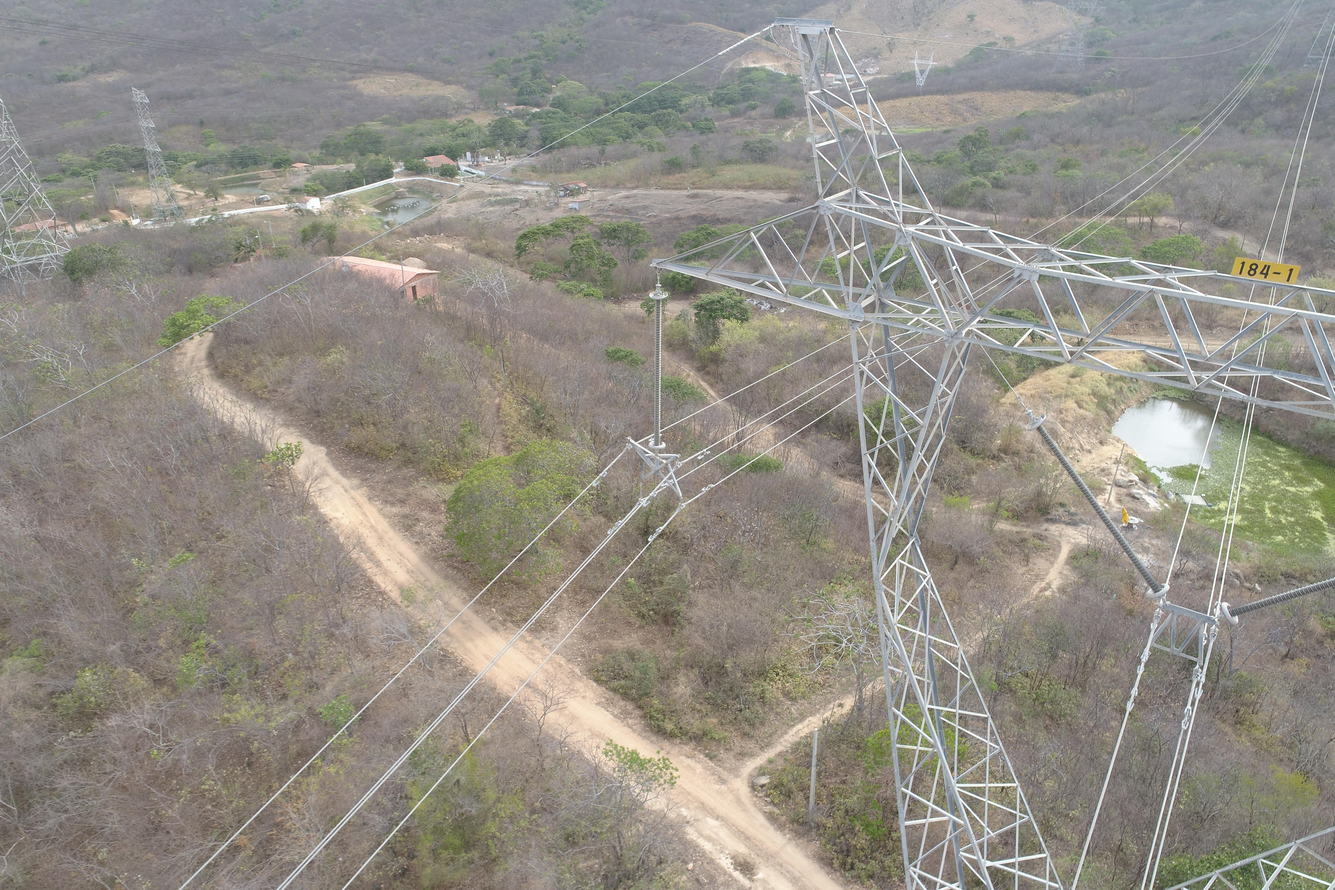power_tower: (632, 18, 1332, 889), (0, 85, 91, 297), (128, 80, 191, 229), (909, 50, 942, 90)
